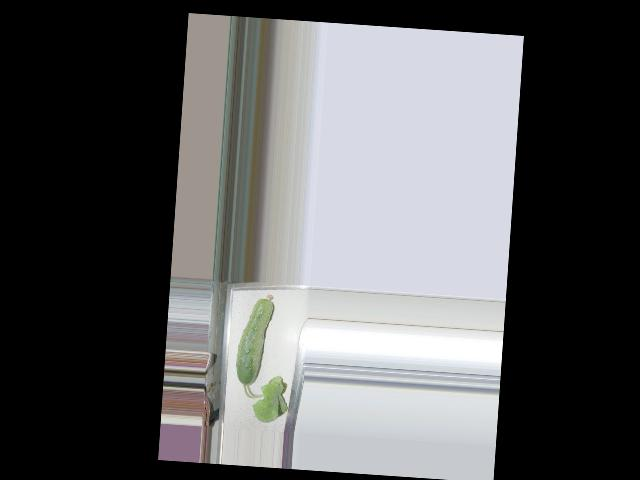cucumber: (234, 292, 274, 387)
